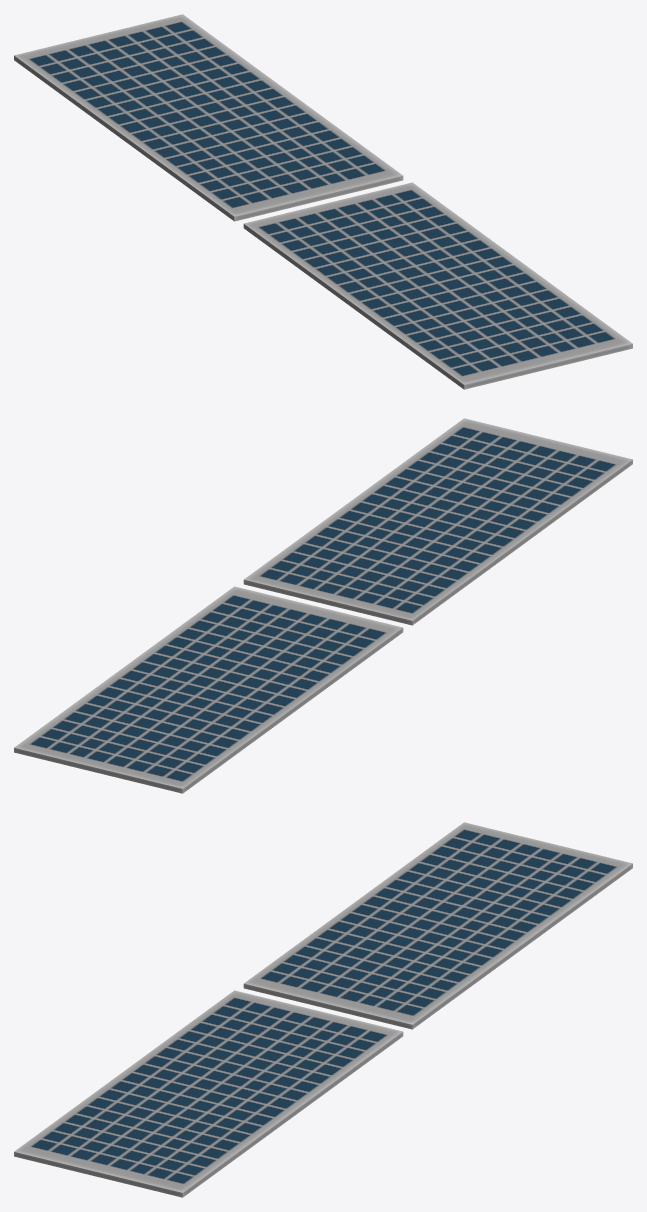
File: Eridani_Solar_1_Panel_1_2_L.obj
The picture shows the model from 3 angles, top to bottom: view 1: azimuth 30°, elevation 25°; view 2: azimuth 150°, elevation 25°; view 3: azimuth 330°, elevation 25°; orthographic projection.
Visible parts, largest first — view 1: Eridani_Solar_1_Panel_1_2_L; view 2: Eridani_Solar_1_Panel_1_2_L; view 3: Eridani_Solar_1_Panel_1_2_L.
Boxes of the visible parts, x1,y1,x2,y2 form: Eridani_Solar_1_Panel_1_2_L: (14,14,632,389); Eridani_Solar_1_Panel_1_2_L: (14,418,632,793); Eridani_Solar_1_Panel_1_2_L: (14,822,632,1197).
Bounding box in the file's own units: 0.3702 × 0.01 × 1.71.
